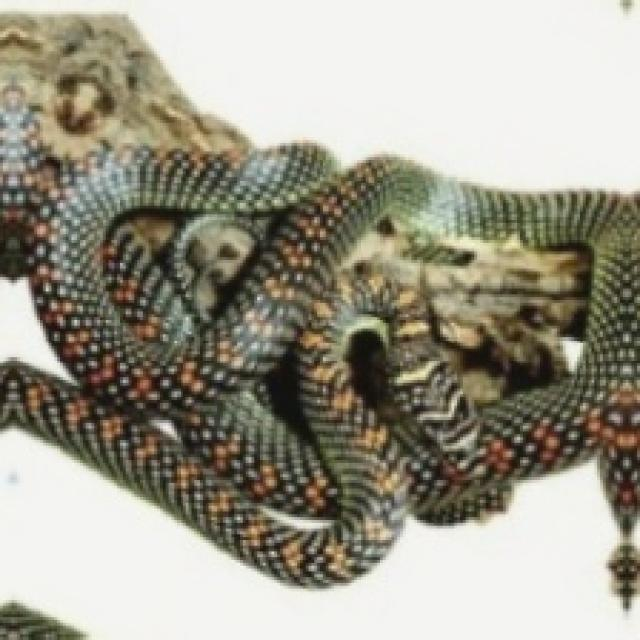paradise tree snake: (0, 14, 637, 600)
